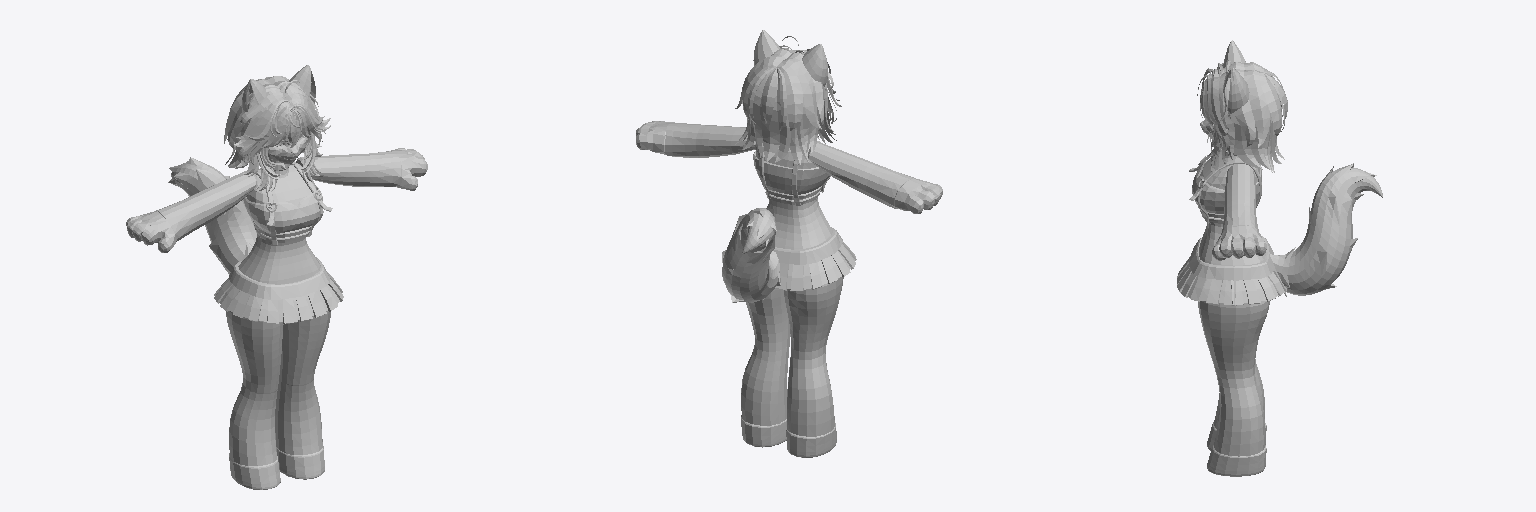
File: Pink Fur.obj
The picture shows the model from 3 angles: view 1: azimuth 30°, elevation 25°; view 2: azimuth 150°, elevation 25°; view 3: azimuth 270°, elevation 25°; orthographic projection.
Visible parts, largest first — view 1: Rleg_Sergentti1Mtl, Lleg_Sergentti1Mtl, Hair_Handle3Mtl, Skirt_Handle5Mtl, RArm_Sergentti1Mtl, Body_Sergentti1Mtl, LArm_Sergentti1Mtl, Tail_Handle4Mtl, Top_Handle2Mtl, CatHead_Sergentti1Mtl; view 2: Hair_Handle3Mtl, Rleg_Sergentti1Mtl, Lleg_Sergentti1Mtl, Tail_Handle4Mtl, RArm_Sergentti1Mtl, LArm_Sergentti1Mtl, Skirt_Handle5Mtl, Body_Sergentti1Mtl, Top_Handle2Mtl, CatHead_Sergentti1Mtl; view 3: Lleg_Sergentti1Mtl, Tail_Handle4Mtl, Hair_Handle3Mtl, Skirt_Handle5Mtl, LArm_Sergentti1Mtl, Top_Handle2Mtl, Body_Sergentti1Mtl, CatHead_Sergentti1Mtl.
Part boxes in pixels (x1,y1,x2,y2): Rleg_Sergentti1Mtl: (226, 311, 283, 489); Lleg_Sergentti1Mtl: (275, 311, 330, 479); Hair_Handle3Mtl: (224, 76, 330, 192); Skirt_Handle5Mtl: (214, 257, 343, 323); RArm_Sergentti1Mtl: (126, 171, 256, 252); Body_Sergentti1Mtl: (238, 164, 320, 284); LArm_Sergentti1Mtl: (296, 148, 427, 190); Tail_Handle4Mtl: (168, 157, 256, 274); Top_Handle2Mtl: (243, 161, 332, 244); CatHead_Sergentti1Mtl: (242, 65, 315, 177); Hair_Handle3Mtl: (735, 36, 841, 164); Rleg_Sergentti1Mtl: (784, 277, 843, 457); Lleg_Sergentti1Mtl: (741, 288, 790, 447); Tail_Handle4Mtl: (722, 208, 780, 302); RArm_Sergentti1Mtl: (808, 141, 942, 213); LArm_Sergentti1Mtl: (636, 121, 756, 157); Skirt_Handle5Mtl: (773, 227, 856, 290); Body_Sergentti1Mtl: (755, 144, 832, 249); Top_Handle2Mtl: (753, 141, 830, 205); CatHead_Sergentti1Mtl: (753, 30, 827, 90); Lleg_Sergentti1Mtl: (1198, 301, 1269, 476); Tail_Handle4Mtl: (1270, 163, 1382, 296); Hair_Handle3Mtl: (1197, 59, 1287, 173); Skirt_Handle5Mtl: (1177, 236, 1286, 305); LArm_Sergentti1Mtl: (1212, 164, 1266, 260); Top_Handle2Mtl: (1189, 149, 1261, 223); Body_Sergentti1Mtl: (1199, 151, 1265, 265); CatHead_Sergentti1Mtl: (1200, 40, 1249, 157).
Bounding box in the file's own units: 0.8013 × 1.05 × 0.4868.